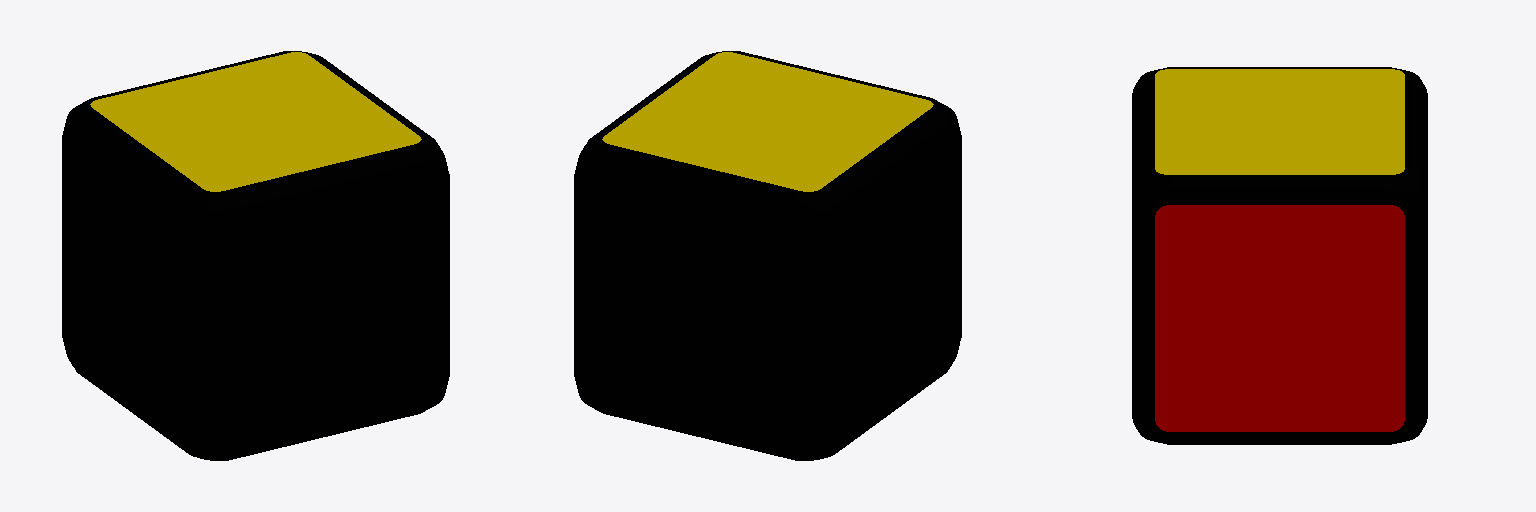
File: edge_ry.obj
The picture shows the model from 3 angles: view 1: azimuth 30°, elevation 25°; view 2: azimuth 150°, elevation 25°; view 3: azimuth 270°, elevation 25°; orthographic projection.
Visible parts, largest first — view 1: Cube; view 2: Cube; view 3: Cube.
Boxes of the visible parts, <box> form: Cube: <box>62,51,449,460</box>; Cube: <box>574,51,961,460</box>; Cube: <box>1132,67,1427,444</box>.
Bounding box in the file's own units: 2 × 2 × 2.